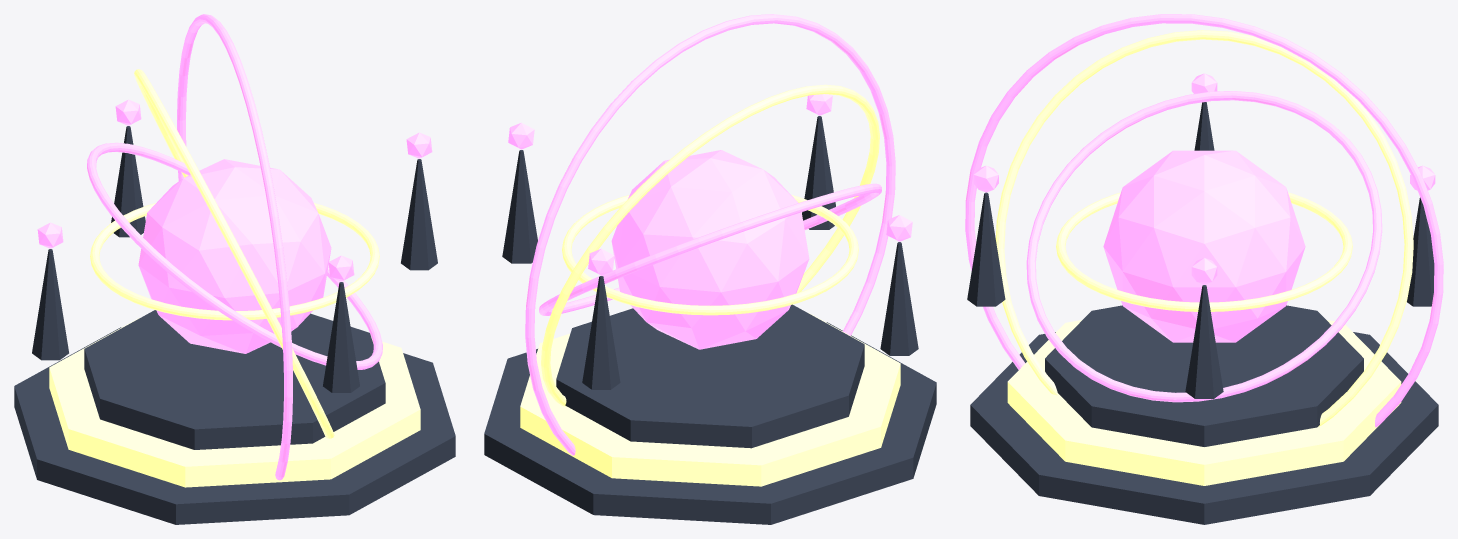
Rendered from gpu-blender-v20.glb.
3 views of the same model, side by side, from view 1: azimuth 30°, elevation 25°; view 2: azimuth 150°, elevation 25°; view 3: azimuth 270°, elevation 25° (orthographic). The views are drawn at different scales.
Visible parts, largest first — view 1: Cylinder.002, SovereignCore_pixel-cast, Cylinder, Cylinder.001, Torus.003, Torus.001, Torus.002, Torus, Cone, Cone.002, Cone.003, Cone.001 (+4 smaller); view 2: Cylinder.002, SovereignCore_pixel-cast, Cylinder, Cylinder.001, Torus.003, Torus.002, Torus, Torus.001, Cone.001, Cone.002, Cone, Cone.003 (+3 smaller); view 3: SovereignCore_pixel-cast, Cylinder.002, Cylinder, Cylinder.001, Torus.001, Torus.003, Torus.002, Torus, Cone.003, Cone, Cone.001, Cone.002 (+2 smaller).
Boxes of the visible parts, x1,y1,x2,y2 form: Cylinder.002: [84, 310, 385, 449]; SovereignCore_pixel-cast: [138, 159, 331, 353]; Cylinder: [14, 327, 455, 524]; Cylinder.001: [49, 318, 420, 487]; Torus.003: [177, 14, 292, 480]; Torus.001: [87, 142, 382, 369]; Torus.002: [134, 69, 334, 438]; Torus: [90, 203, 379, 320]; Cone: [401, 159, 437, 270]; Cone.002: [32, 249, 68, 360]; Cone.003: [323, 282, 359, 392]; Cone.001: [111, 126, 145, 237]; Cylinder.002: [556, 304, 864, 448]; SovereignCore_pixel-cast: [611, 150, 809, 349]; Cylinder: [484, 322, 936, 524]; Cylinder.001: [520, 313, 900, 486]; Torus.003: [525, 14, 895, 455]; Torus.002: [541, 84, 879, 406]; Torus: [562, 195, 858, 315]; Torus.001: [539, 183, 881, 315]; Cone.001: [582, 276, 620, 389]; Cone.002: [880, 242, 918, 355]; Cone: [502, 150, 537, 263]; Cone.003: [802, 116, 835, 229]; SovereignCore_pixel-cast: [1103, 150, 1305, 342]; Cylinder.002: [1045, 305, 1363, 446]; Cylinder: [970, 332, 1438, 524]; Cylinder.001: [1007, 320, 1401, 485]; Torus.001: [1026, 91, 1382, 402]; Torus.003: [965, 14, 1443, 427]; Torus.002: [995, 30, 1413, 426]; Torus: [1056, 192, 1352, 311]; Cone.003: [967, 192, 1005, 306]; Cone: [1185, 285, 1223, 398]; Cone.001: [1407, 197, 1434, 306]; Cone.002: [1194, 102, 1214, 150].
Size of the model in its own units: 4.41 by 4.7 by 4.49.
